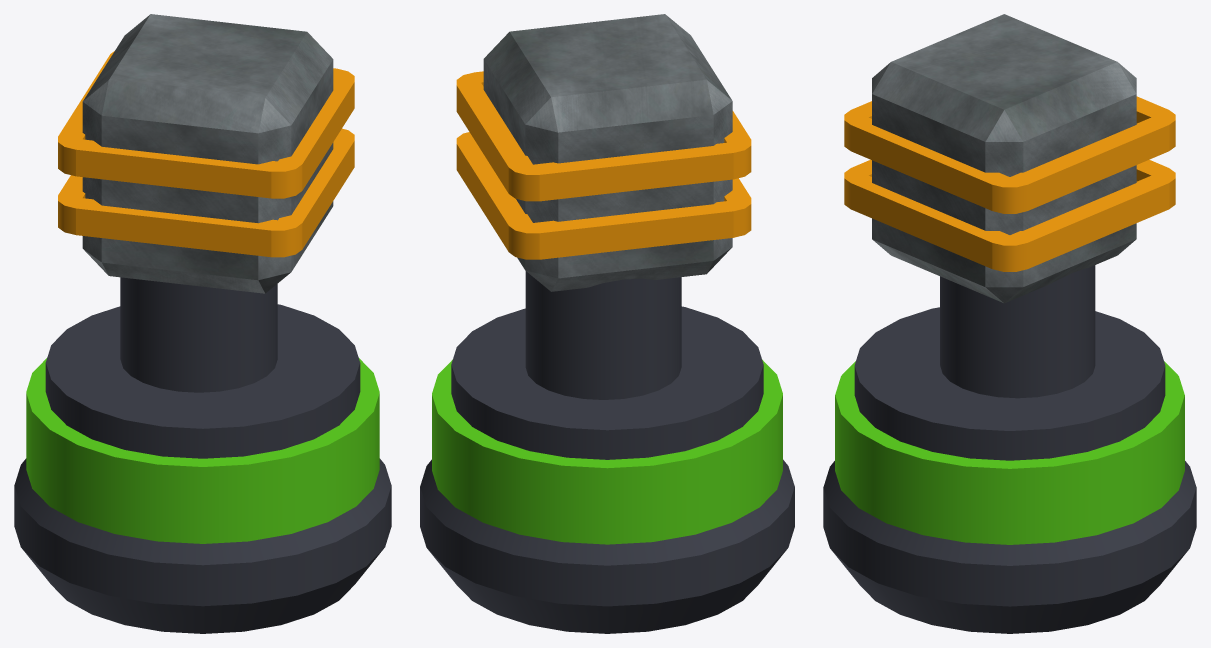
Rendered from tower_dark_emerald.obj.
The picture shows the model from 3 angles, left to right: view 1: azimuth 30°, elevation 25°; view 2: azimuth 150°, elevation 25°; view 3: azimuth 270°, elevation 25°; orthographic projection.
Visible parts, largest first — view 1: mergedBlocks; view 2: mergedBlocks; view 3: mergedBlocks.
Part boxes in pixels (box(x1,y1,x2,y2)): mergedBlocks: box(14, 14, 391, 633); mergedBlocks: box(420, 14, 794, 633); mergedBlocks: box(823, 14, 1196, 633).
Size of the model in its own units: 0.96 by 1.44 by 0.96.
Materials: 5 (1 with a texture image).
